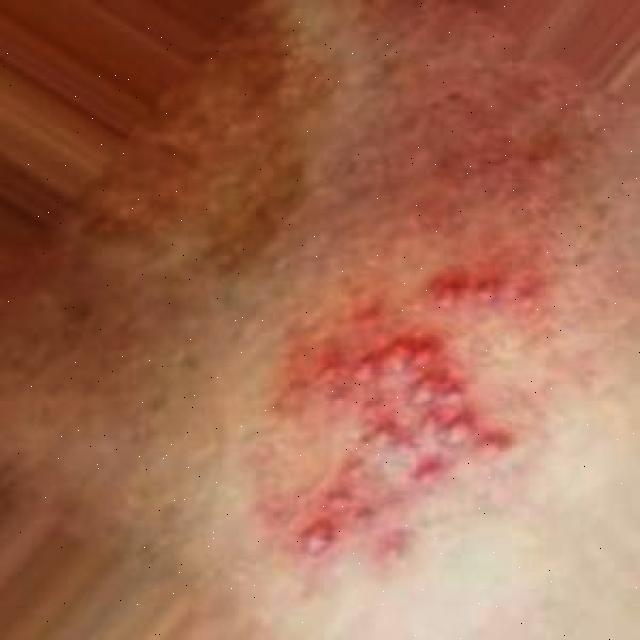Shingles: (290, 271, 543, 572)
